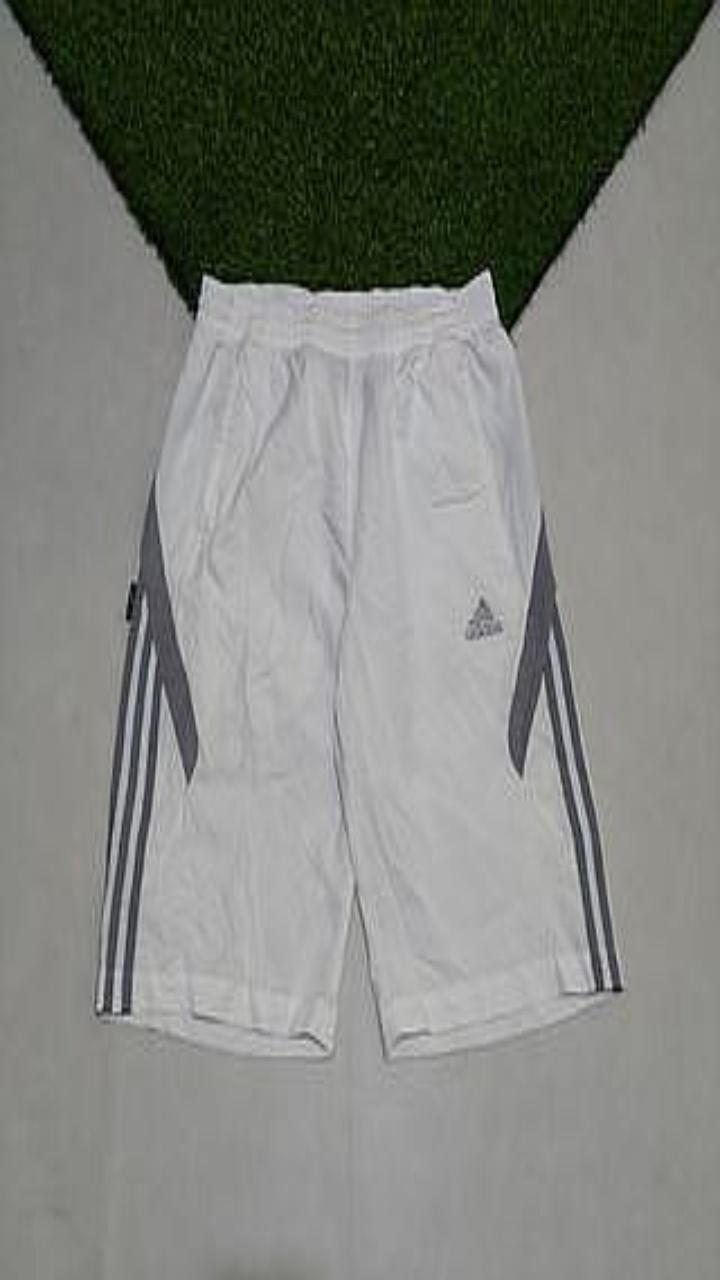Shorts: (96, 270, 621, 1056)
